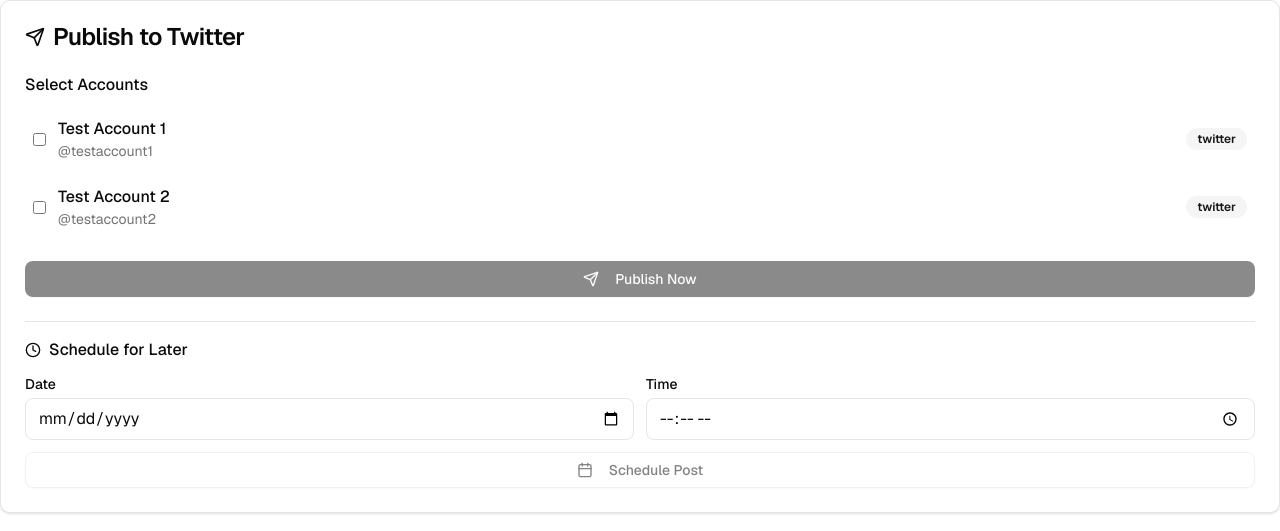
Test case: PublishingInterface › should enable publish button when accounts are selected
Step 1. Click the checkbox labelled "Test Account 1 @testaccount1 twitter" → (40, 139), box x1=33 y1=132 x2=46 y2=146
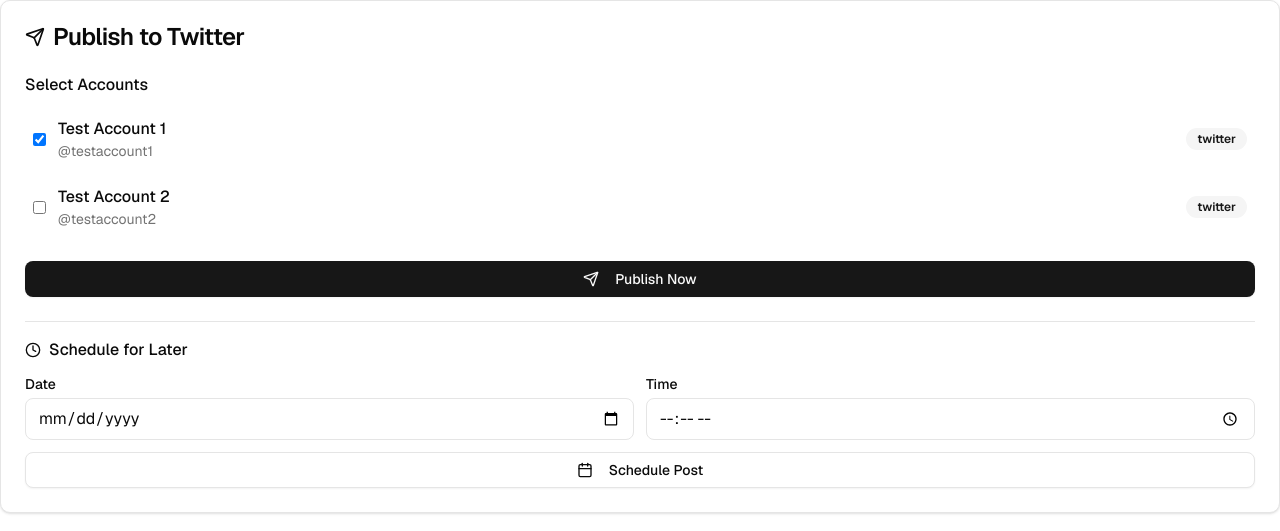
Now the button "Publish Now" is enabled, box x1=25 y1=261 x2=1255 y2=297
